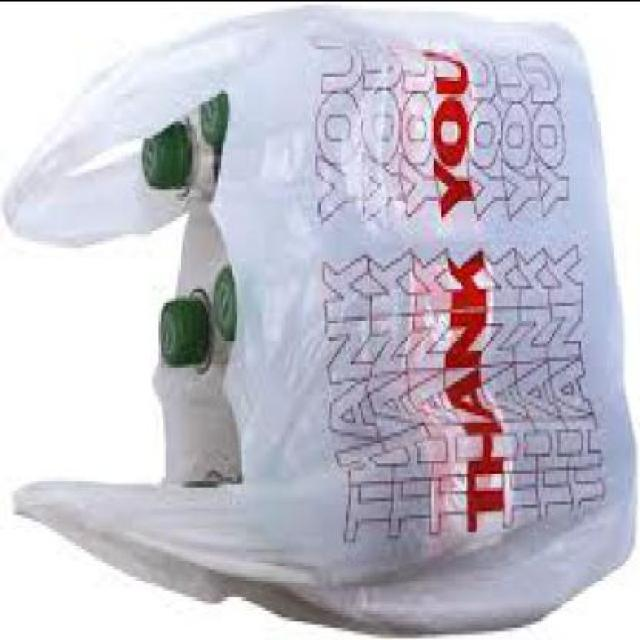PLASTIC: (0, 9, 634, 638), (156, 302, 199, 372), (140, 124, 180, 191), (206, 270, 240, 342), (192, 92, 226, 148)
